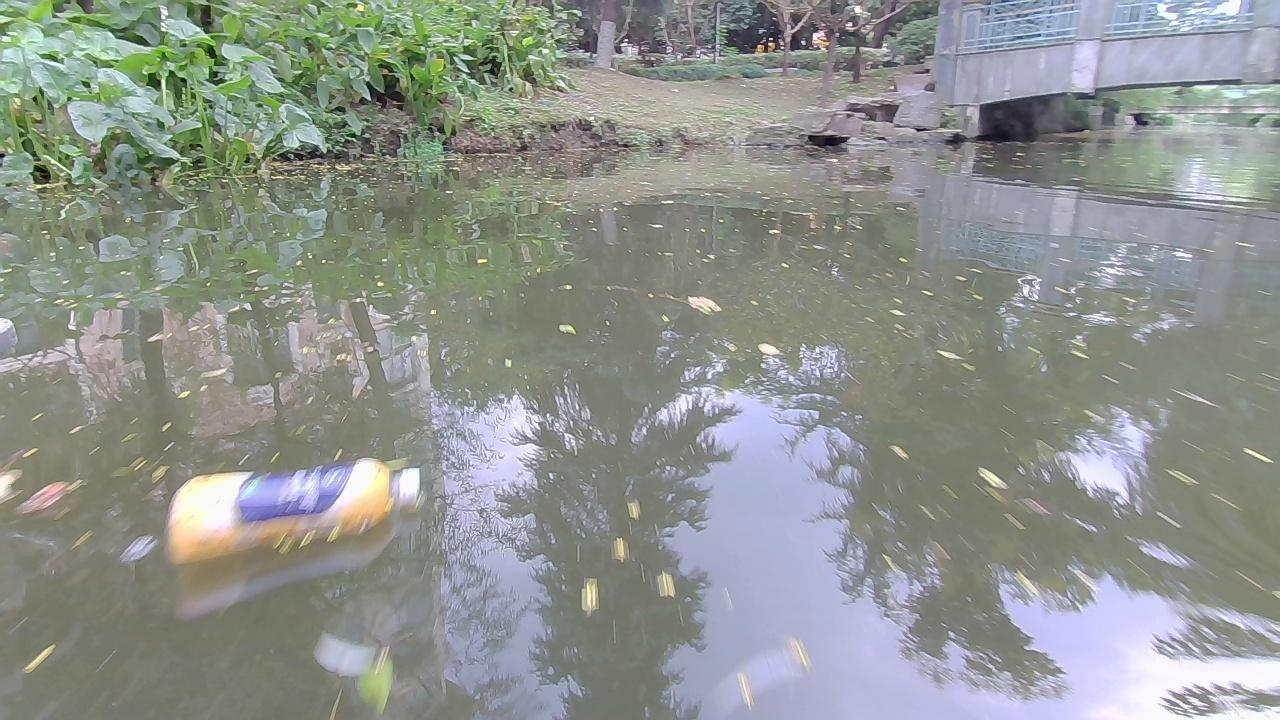bottle: (158, 456, 428, 556)
